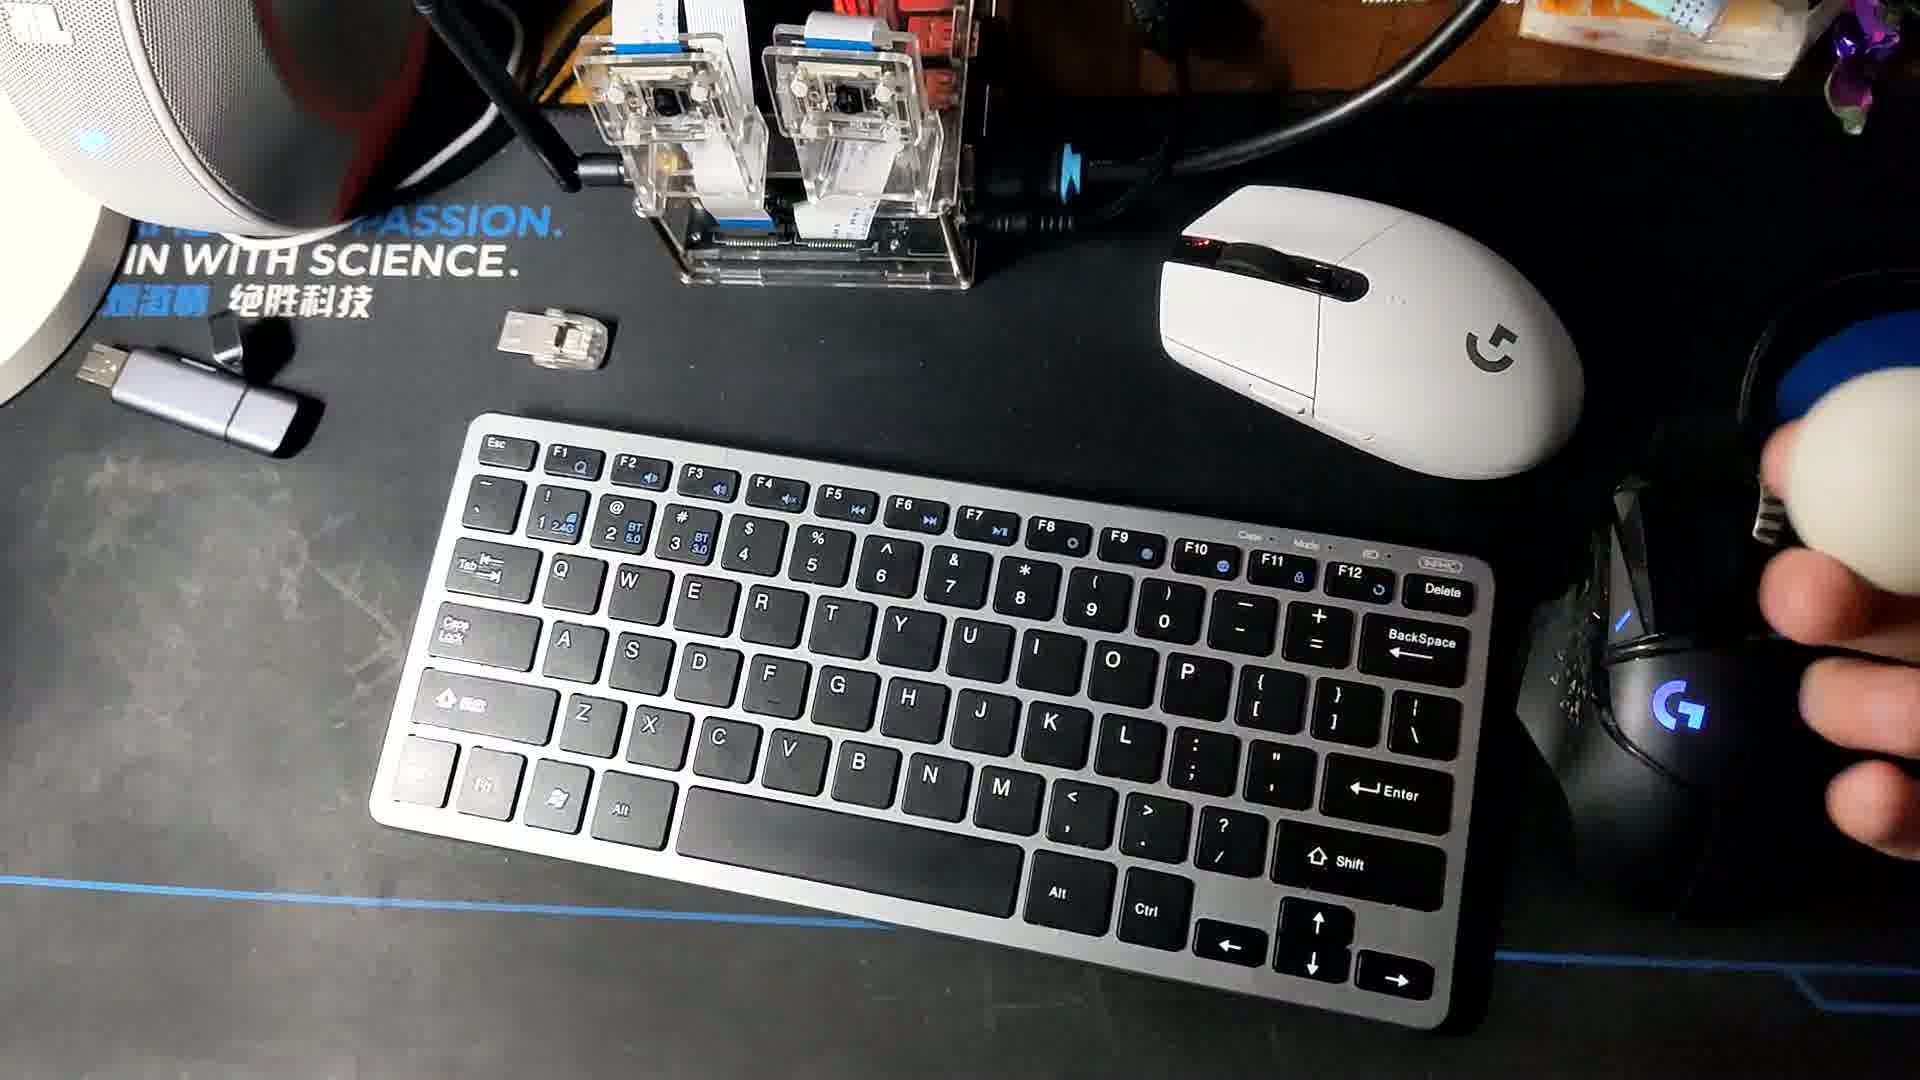Ball: (1782, 363, 1920, 589)
